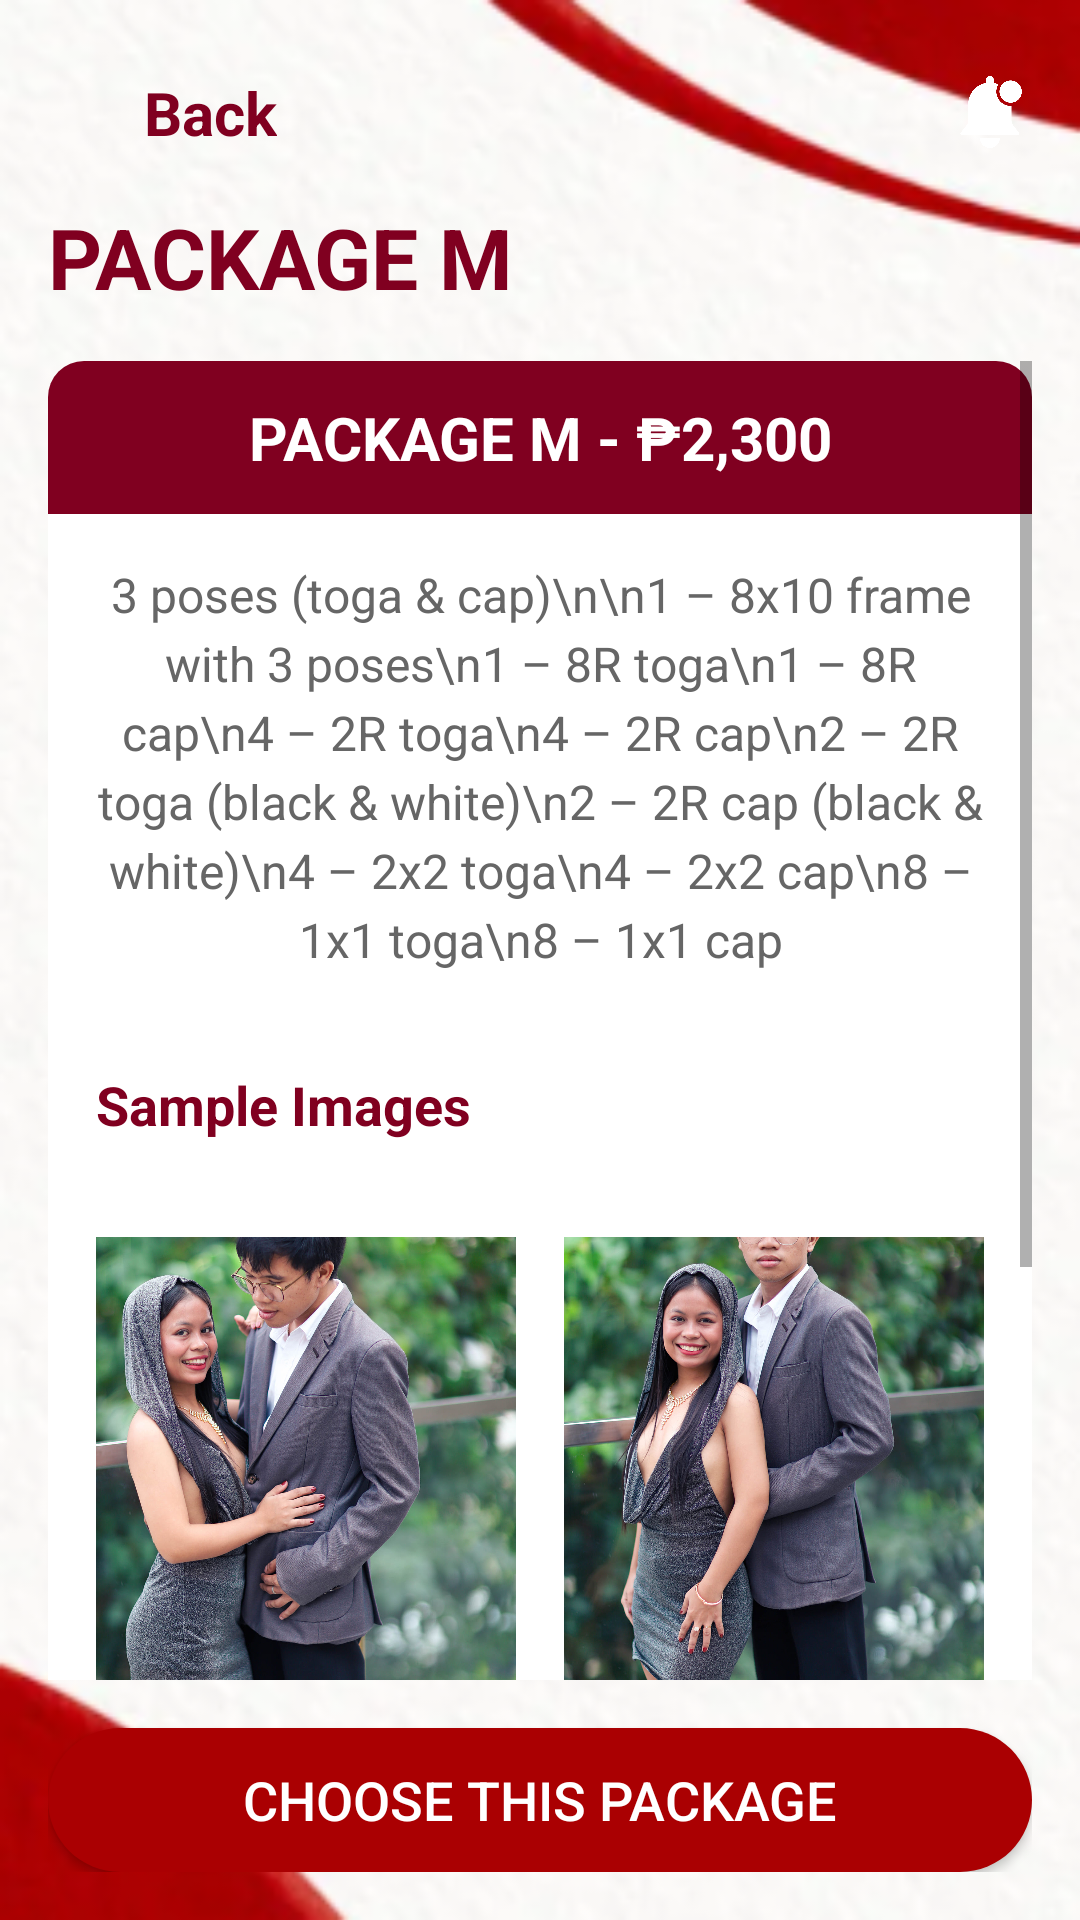

Point at icon controls on the screen. Image size 1080×1920, points as point (x, y).
notification bell: point (996, 112)
